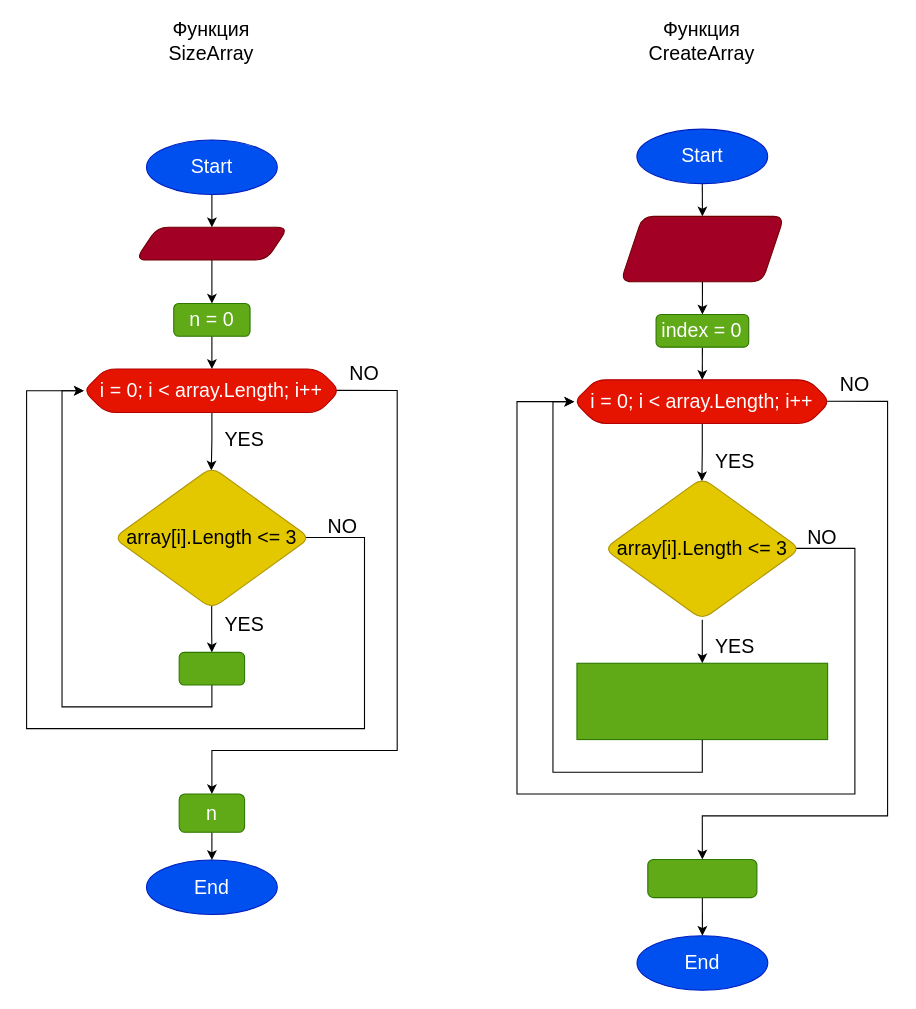
This 916x1009 diagram has some shape labels left out. Each missing label, with the centre of its shape:
Input array[]: (x=211, y=243)
Input array[] newArray[]: (x=702, y=248)
n++: (x=211, y=668)
newArray: (x=702, y=878)
newArray[index] = array[i]; index++;: (x=702, y=701)
